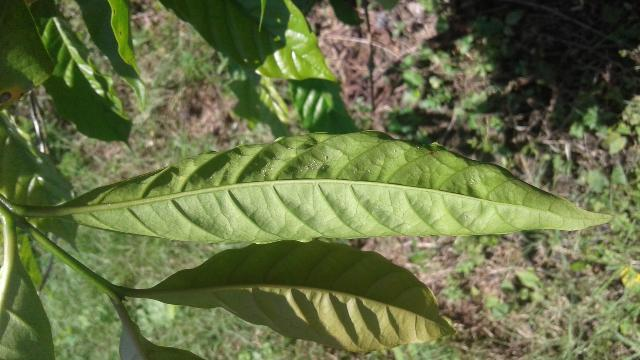healthy: (54, 129, 623, 246)
